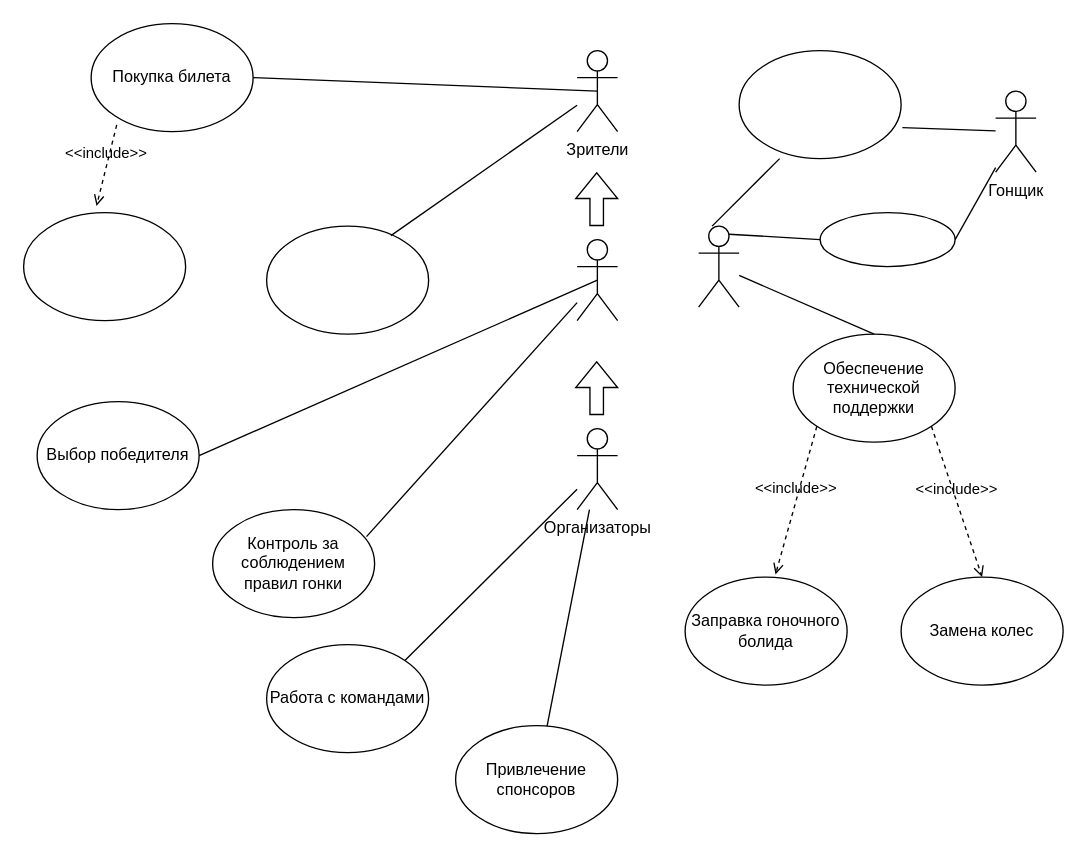
This 1087x857 diagram has some shape labels left out. The centre of each missing label's shape, as x and y in pixels:
"Вход в стадион" goes at point 104,266.
"Доступ в машину" goes at point 887,239.
"Механики" goes at point 718,266.
"Просмотр гонки" goes at point 347,279.
"Судьи" goes at point 597,279.
"Участие в гонке" goes at point 819,104.
